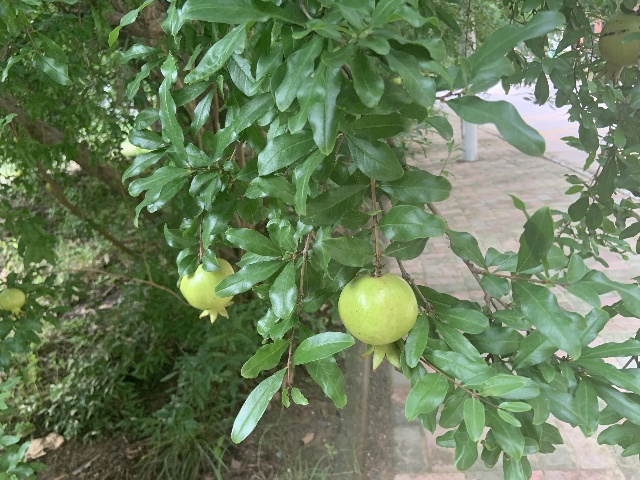mid-growth: (337, 271, 418, 371), (179, 257, 236, 324), (593, 16, 640, 85), (0, 287, 26, 319)
